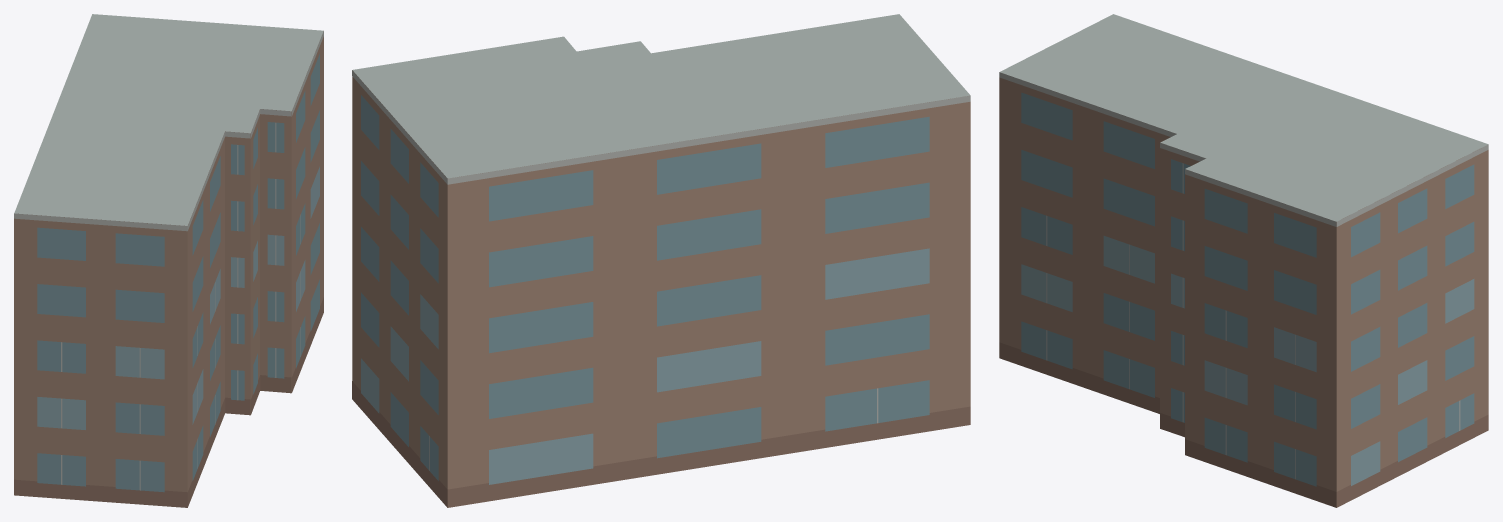
The model's file is survey-upis-32999400.glb.
3 views of the same model, side by side, from view 1: azimuth 30°, elevation 25°; view 2: azimuth 150°, elevation 25°; view 3: azimuth 270°, elevation 25° (orthographic). The views are drawn at different scales.
Parts seen in each view (by area): view 1: survey-upis-32999400.tmp; view 2: survey-upis-32999400.tmp; view 3: survey-upis-32999400.tmp.
Part boxes in pixels (x1,y1,x2,y2): survey-upis-32999400.tmp: (14, 14, 323, 507); survey-upis-32999400.tmp: (352, 14, 970, 507); survey-upis-32999400.tmp: (999, 14, 1488, 507).
Size of the model in its own units: 20.41 by 13.1 by 20.31.
